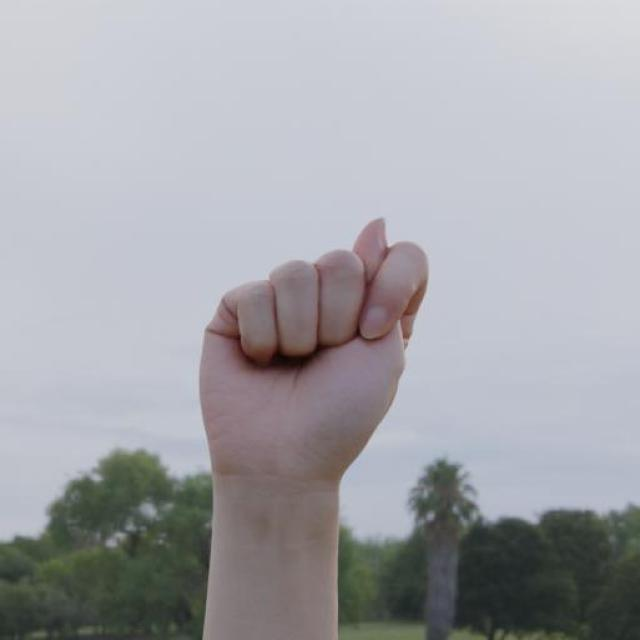T: (195, 213, 434, 488)
